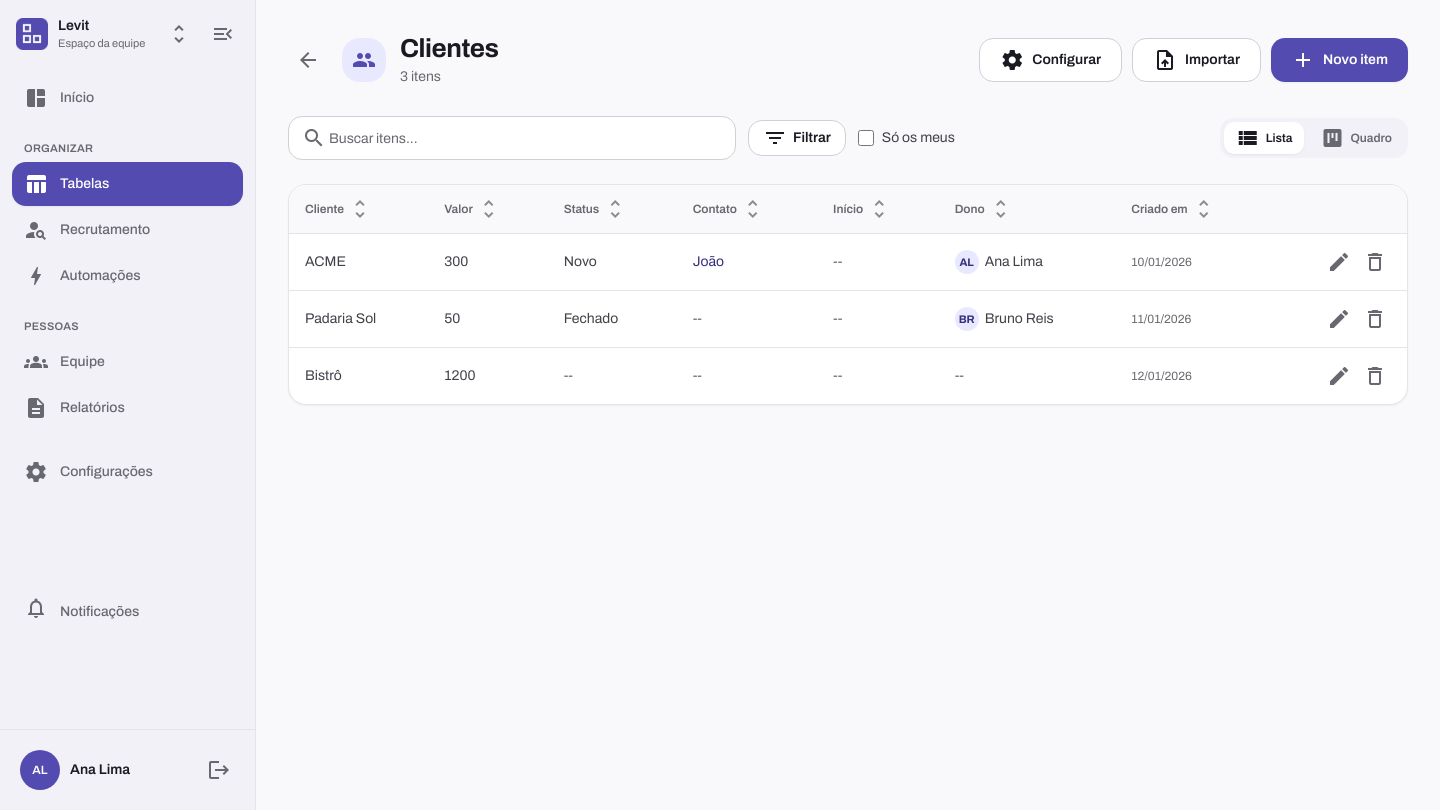
Test case: ModuleRecords › erro ao salvar fica no painel
Expected: the cell "ACME" is shown, [289,234,428,290]
Click the button "Novo item": {"x": 1340, "y": 60} [1271,38,1408,82]
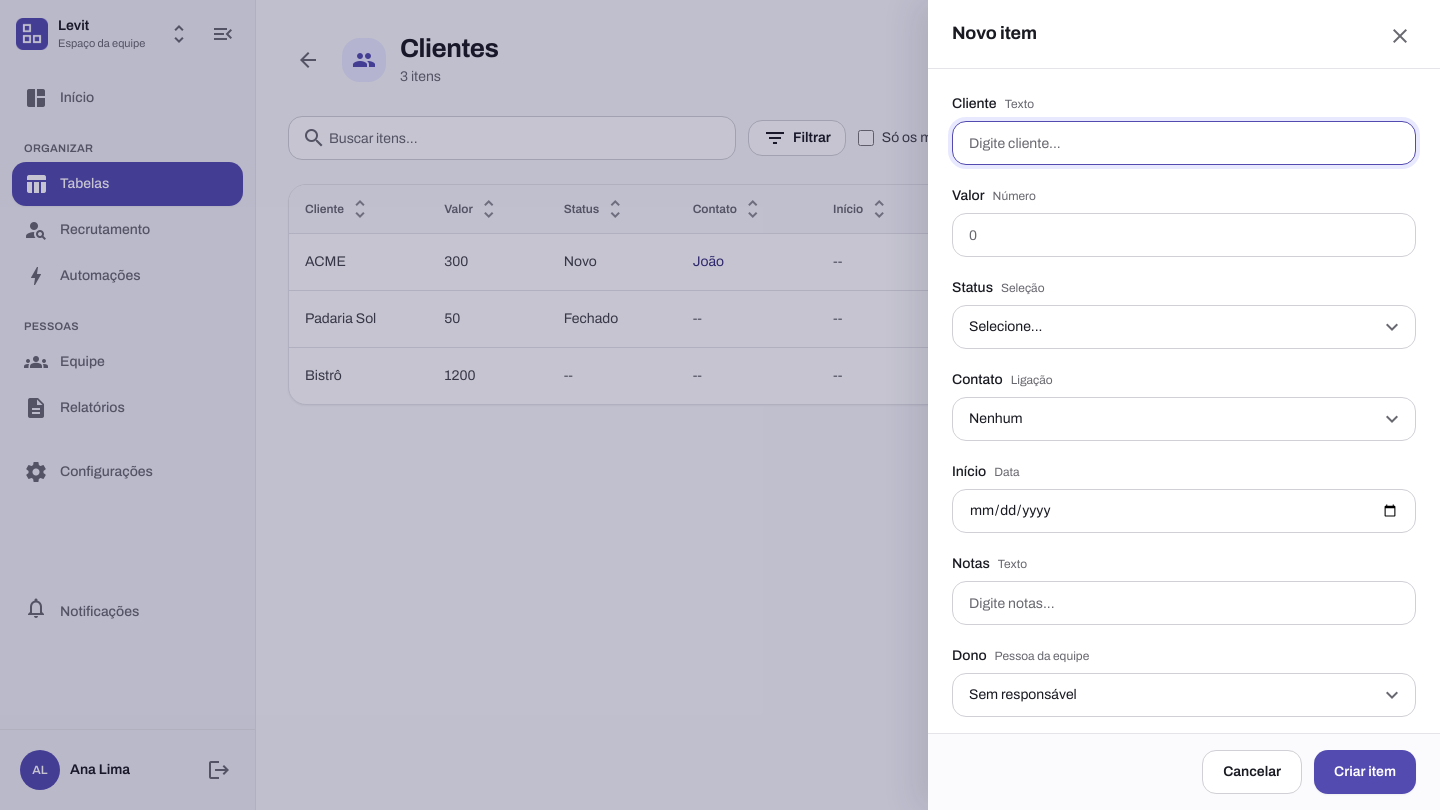
In the field labelled "ClienteTexto": {"x": 1184, "y": 143} [952,121,1416,165], type "X"
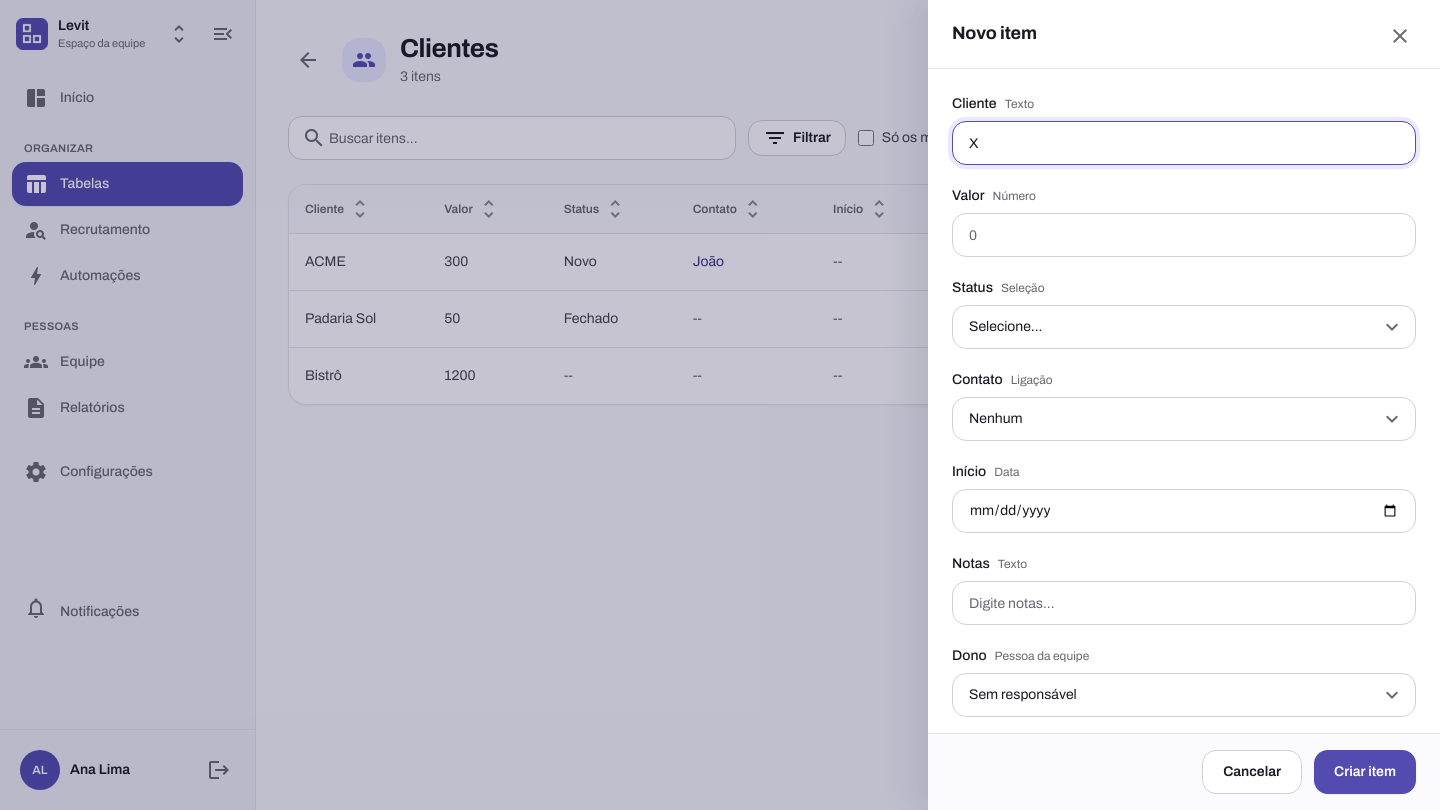
Click the button "Criar item": {"x": 1365, "y": 772} [1314,750,1416,794]
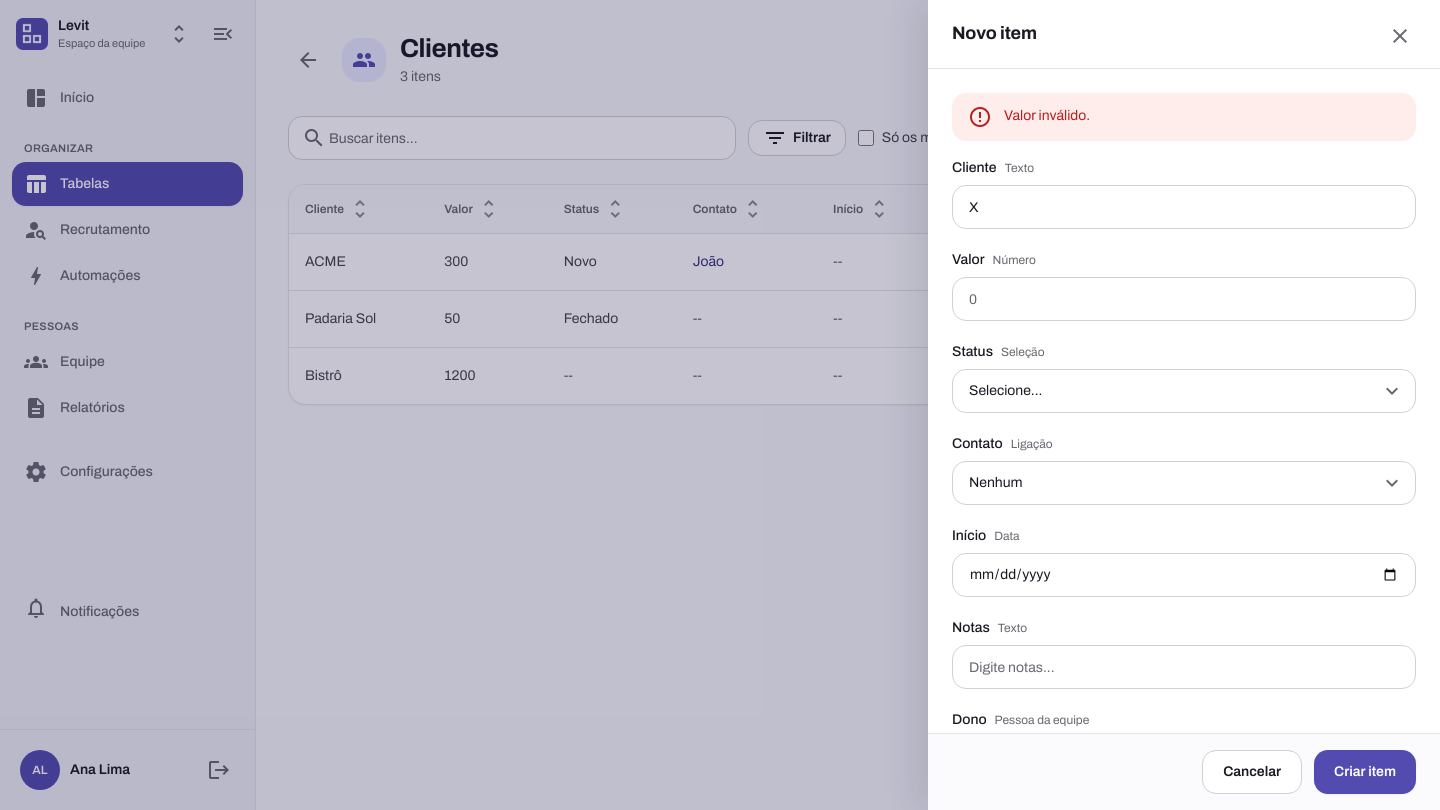
Now the dialog "Novo item" is shown, box [928,0,1439,809]
Now the text "Valor inválido." is shown, box [1004,108,1090,123]
